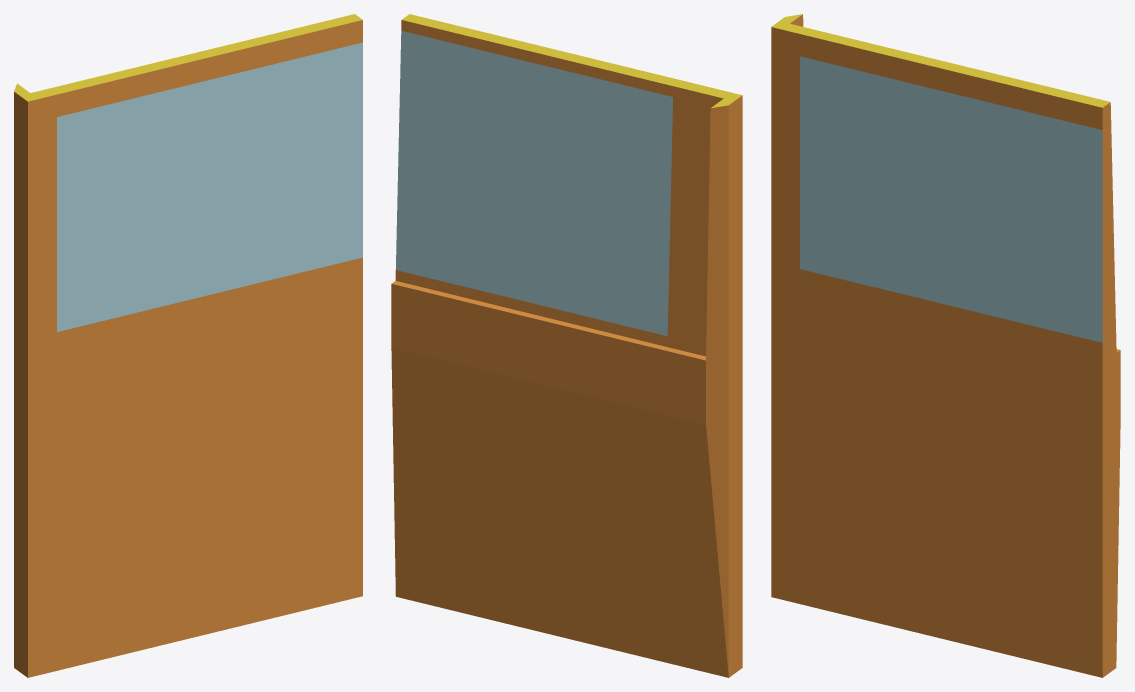
File: rear_left_window_of_the_bus.fbx
3 views of the same model, side by side, from view 1: azimuth 30°, elevation 25°; view 2: azimuth 150°, elevation 25°; view 3: azimuth 330°, elevation 25° (orthographic).
Parts seen in each view (by area): view 1: Cube.055; view 2: Cube.055; view 3: Cube.055.
Part boxes in pixels (left/top/right/bottom): Cube.055: left=14, top=14, right=362, bottom=677; Cube.055: left=391, top=14, right=742, bottom=677; Cube.055: left=771, top=14, right=1120, bottom=677.
Bounding box in the file's own units: 94.88 × 156 × 10.55.
